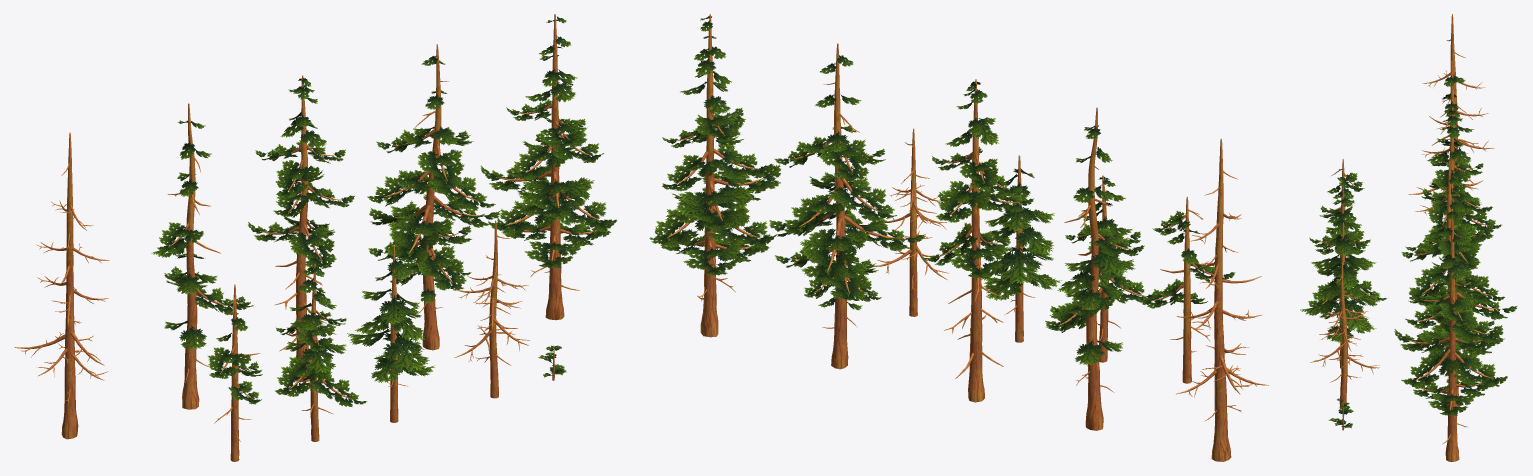
Rendered from stylized_pine_pack.fbx.
The picture shows the model from 3 angles, left to right: view 1: azimuth 30°, elevation 25°; view 2: azimuth 150°, elevation 25°; view 3: azimuth 270°, elevation 25°; orthographic projection. The views are drawn at different scales.
Parts seen in each view (by area): view 1: stylized_pine_var1, stylized_pine_var2, stylized_pine_var3, stylized_pine_var4, small_stylized_pine_var2, small_stylized_pine_var3, stylized_pine_var5, small_stylized_pine_var1, small_stylized_pine_var4; view 2: stylized_pine_var1, stylized_pine_var2, stylized_pine_var3, stylized_pine_var4, small_stylized_pine_var3, stylized_pine_var5, small_stylized_pine_var2, small_stylized_pine_var1, small_stylized_pine_var4; view 3: stylized_pine_var1, stylized_pine_var2, stylized_pine_var3, small_stylized_pine_var3, small_stylized_pine_var2, small_stylized_pine_var4, stylized_pine_var4, stylized_pine_var5, small_stylized_pine_var1, sapling_stylized_pine.
Boxes of the visible parts, bbox=[...] form: stylized_pine_var1: bbox=[480, 14, 616, 320]; stylized_pine_var2: bbox=[367, 44, 500, 350]; stylized_pine_var3: bbox=[248, 75, 354, 381]; stylized_pine_var4: bbox=[151, 103, 248, 409]; small_stylized_pine_var2: bbox=[274, 264, 367, 441]; small_stylized_pine_var3: bbox=[347, 245, 434, 422]; stylized_pine_var5: bbox=[14, 132, 109, 439]; small_stylized_pine_var1: bbox=[207, 284, 262, 461]; small_stylized_pine_var4: bbox=[453, 220, 530, 398]; stylized_pine_var1: bbox=[649, 14, 781, 337]; stylized_pine_var2: bbox=[769, 43, 925, 369]; stylized_pine_var3: bbox=[921, 79, 1033, 402]; stylized_pine_var4: bbox=[1045, 107, 1144, 430]; small_stylized_pine_var3: bbox=[970, 155, 1061, 342]; stylized_pine_var5: bbox=[1176, 138, 1268, 461]; small_stylized_pine_var2: bbox=[1064, 175, 1157, 362]; small_stylized_pine_var1: bbox=[1138, 196, 1235, 383]; small_stylized_pine_var4: bbox=[871, 128, 948, 316]; stylized_pine_var1: bbox=[1394, 209, 1507, 461]; stylized_pine_var2: bbox=[1401, 161, 1517, 408]; stylized_pine_var3: bbox=[1405, 107, 1493, 355]; small_stylized_pine_var3: bbox=[1300, 222, 1380, 368]; small_stylized_pine_var2: bbox=[1308, 190, 1387, 325]; small_stylized_pine_var4: bbox=[1310, 263, 1379, 409]; stylized_pine_var4: bbox=[1428, 61, 1501, 301]; stylized_pine_var5: bbox=[1408, 14, 1494, 254]; small_stylized_pine_var1: bbox=[1315, 158, 1367, 257]; sapling_stylized_pine: bbox=[1328, 398, 1353, 430].
Size of the model in its own units: 2866 by 1436 by 1146.
